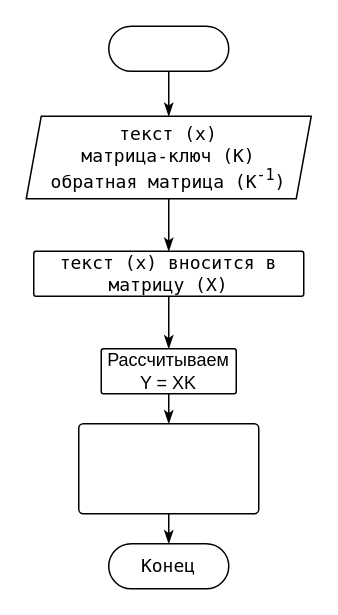
Image size: 338x615. Some labels were removed from this diagram. Each missing label, with the centre of its shape:
"Начало" belongs at pixel 168 48.
"Считываем матрицу рассчитанную построчно" belongs at pixel 168 468.
